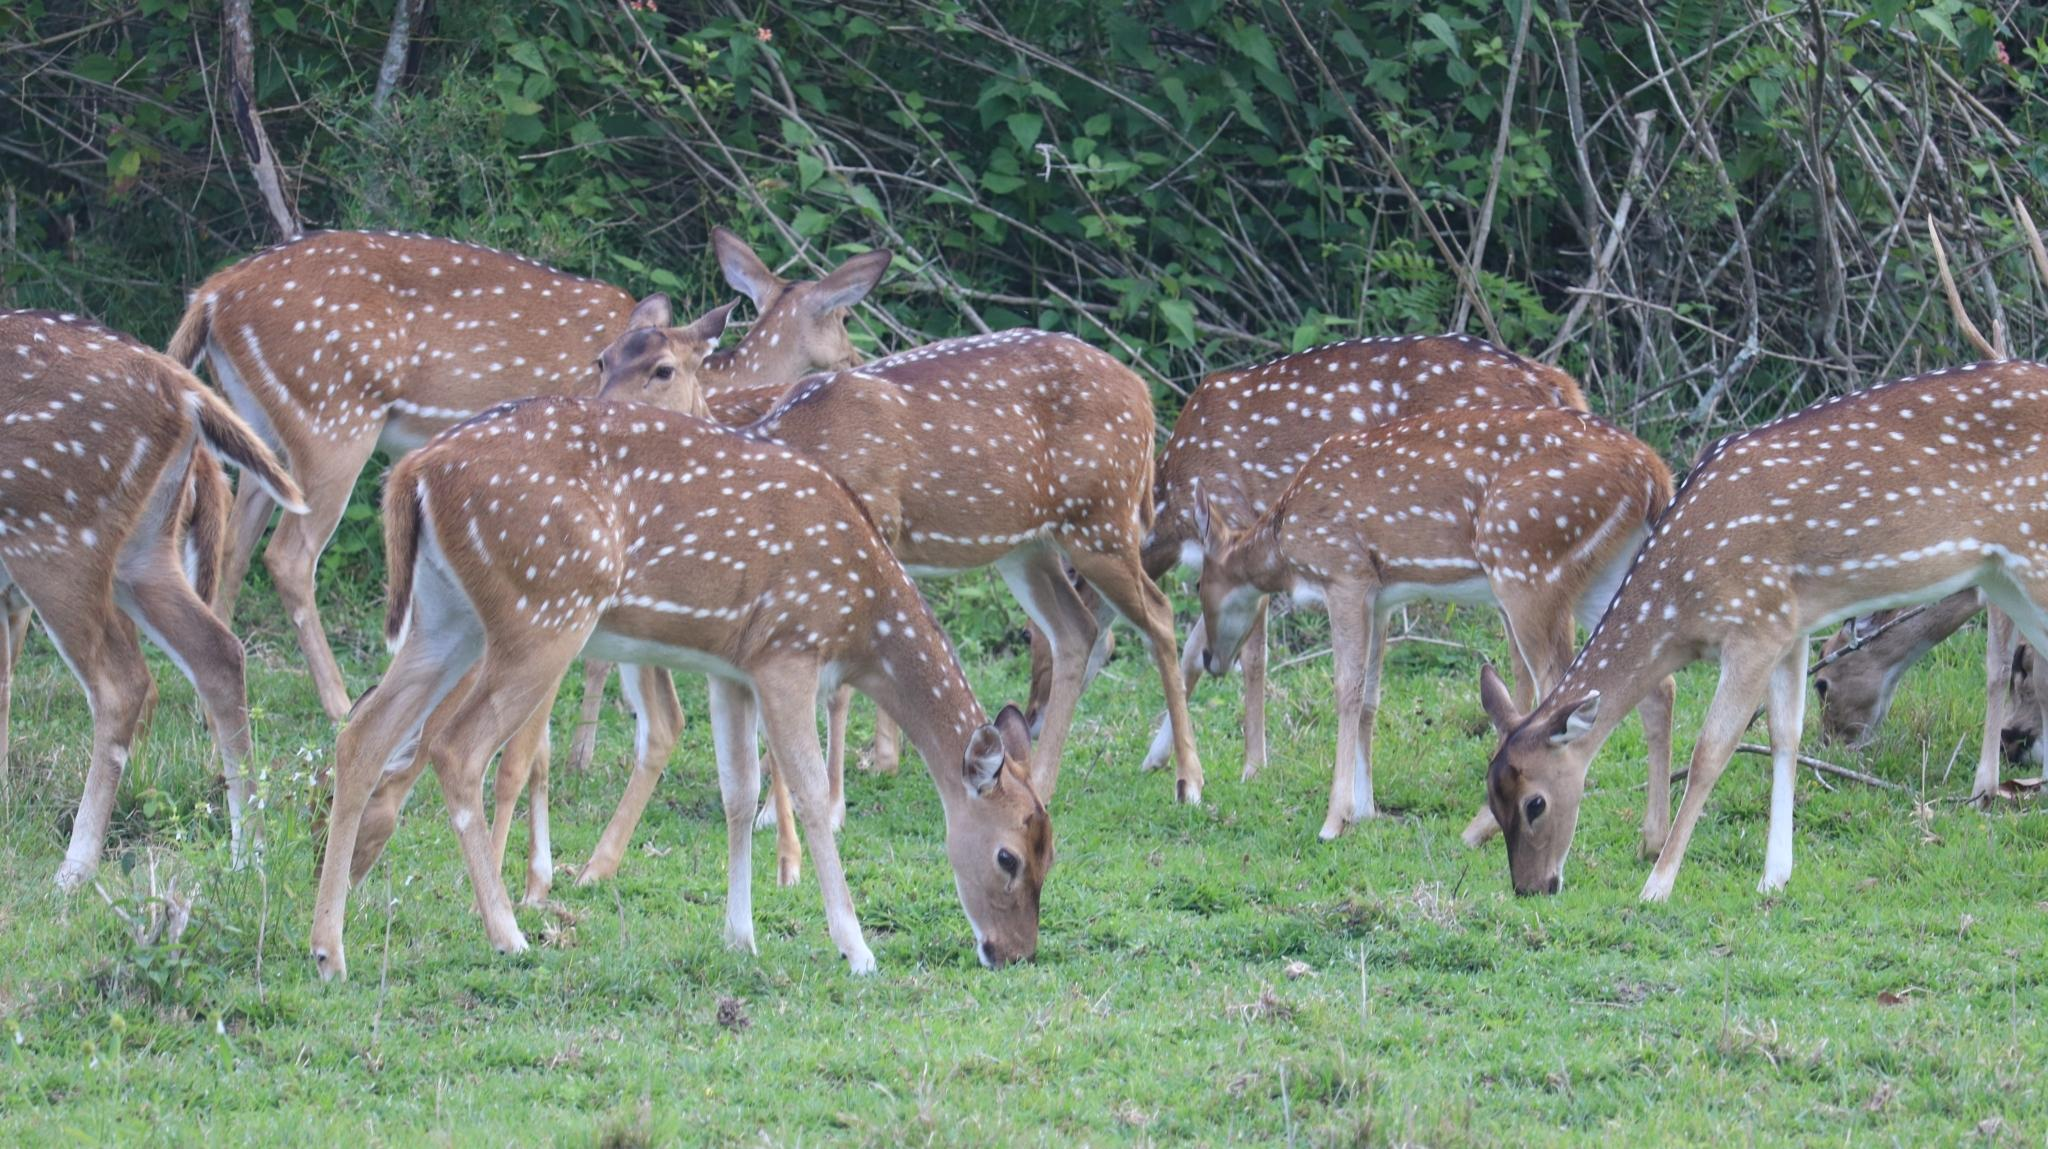Deer: (311, 397, 1052, 975), (596, 293, 1203, 804), (1480, 360, 2047, 900), (1191, 406, 1672, 840)
